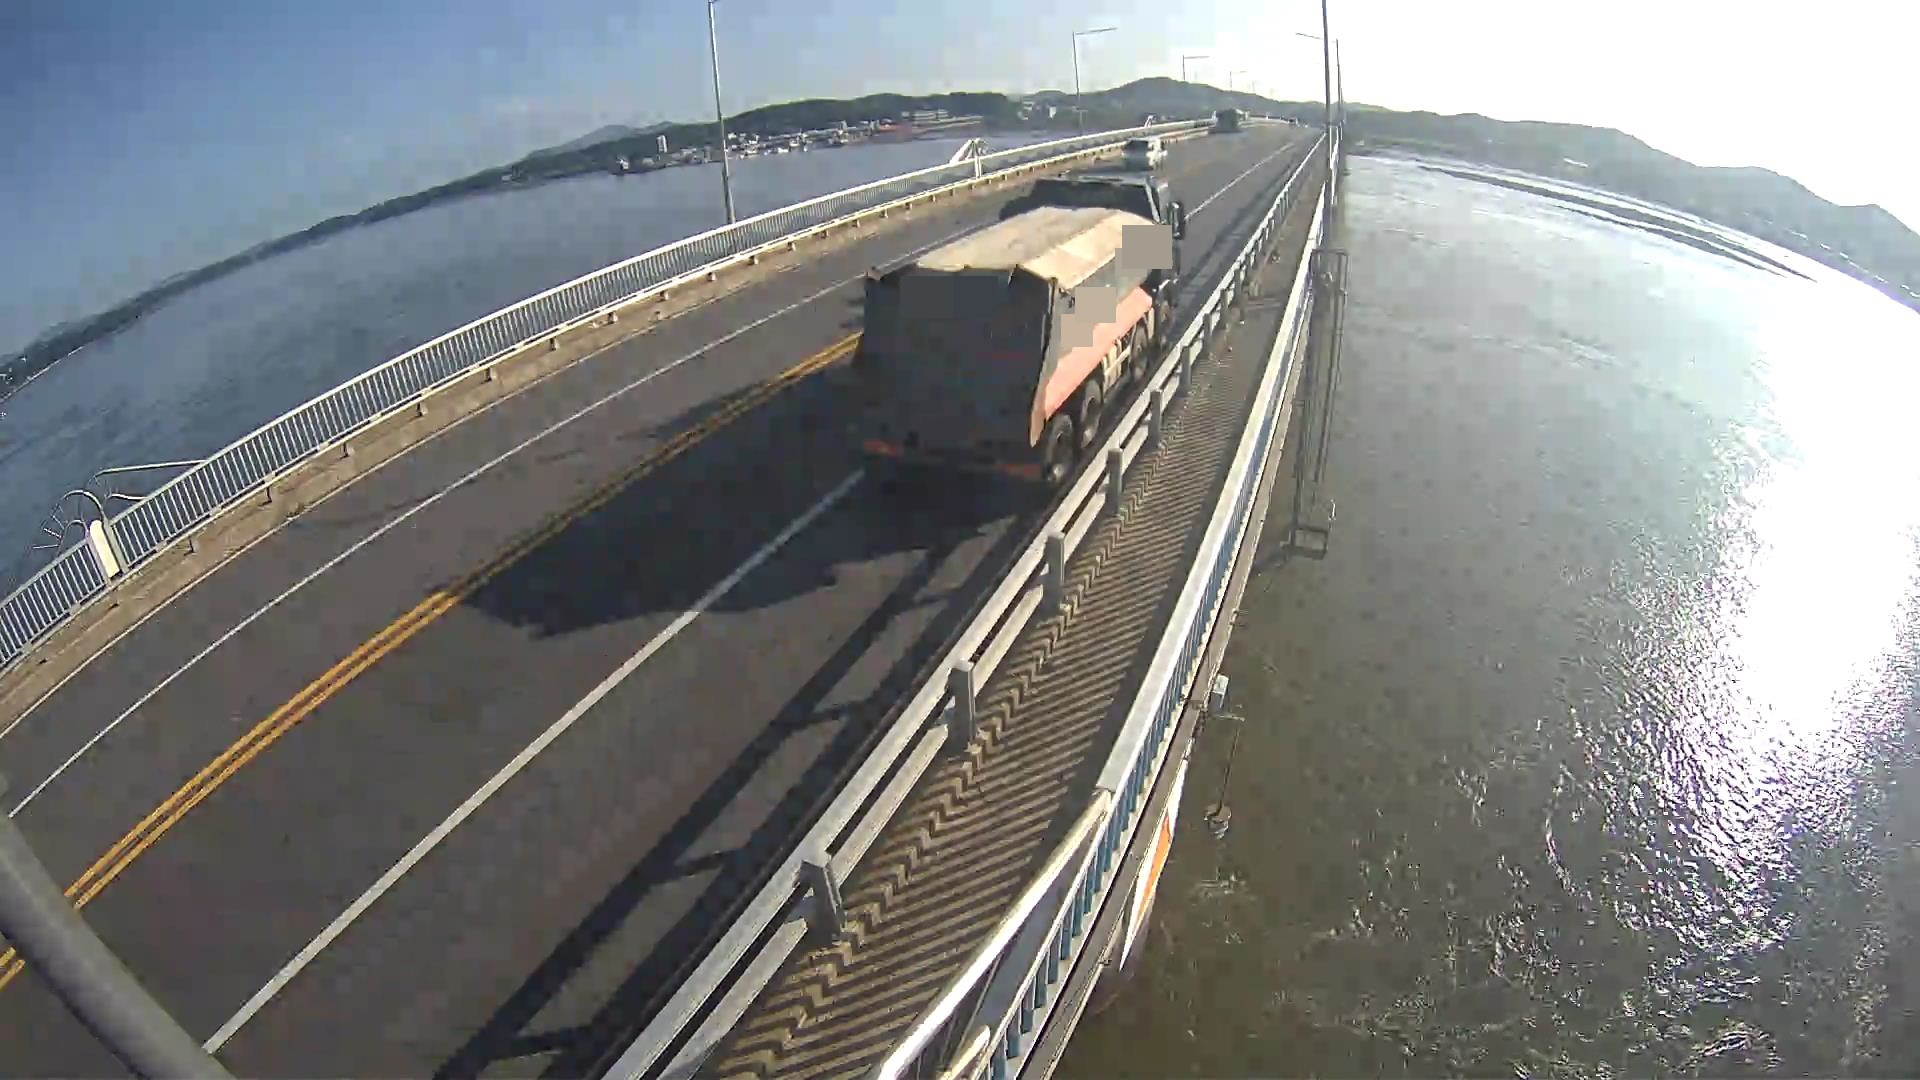정상차량: (847, 170, 1185, 505)
